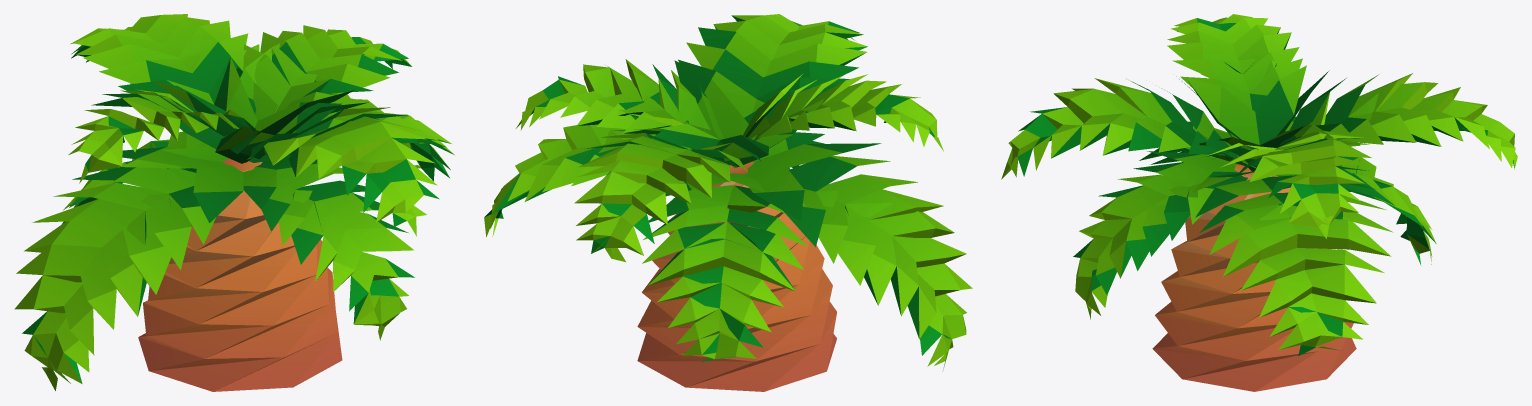
The model's file is GL-Palmtree-07-LOD2.fbx.
3 views of the same model, side by side, from view 1: azimuth 30°, elevation 25°; view 2: azimuth 150°, elevation 25°; view 3: azimuth 270°, elevation 25° (orthographic). The views are drawn at different scales.
Visible parts, largest first — view 1: GL_Palmtree_07; view 2: GL_Palmtree_07; view 3: GL_Palmtree_07.
Boxes of the visible parts, x1,y1,x2,y2 form: GL_Palmtree_07: (14, 14, 454, 391); GL_Palmtree_07: (484, 14, 972, 391); GL_Palmtree_07: (1001, 14, 1517, 391).
Bounding box in the file's own units: 2.99 × 1.83 × 3.18.
